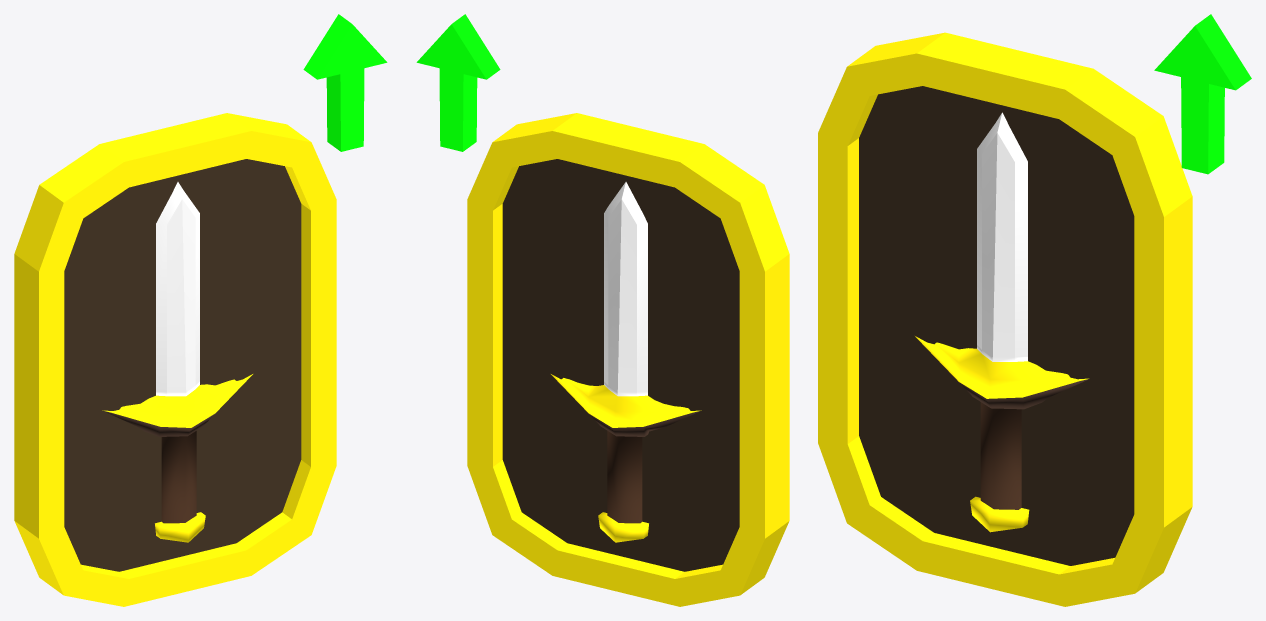
File: damage_pickup.glb
The picture shows the model from 3 angles, left to right: view 1: azimuth 30°, elevation 25°; view 2: azimuth 150°, elevation 25°; view 3: azimuth 330°, elevation 25°; orthographic projection. The views are drawn at different scales.
Parts seen in each view (by area): view 1: damage_pickup; view 2: damage_pickup; view 3: damage_pickup.
Boxes of the visible parts, x1,y1,x2,y2 form: damage_pickup: (14, 14, 387, 606); damage_pickup: (416, 14, 789, 606); damage_pickup: (818, 14, 1251, 606).
Size of the model in its own units: 0.6662 by 0.9384 by 0.1037.
